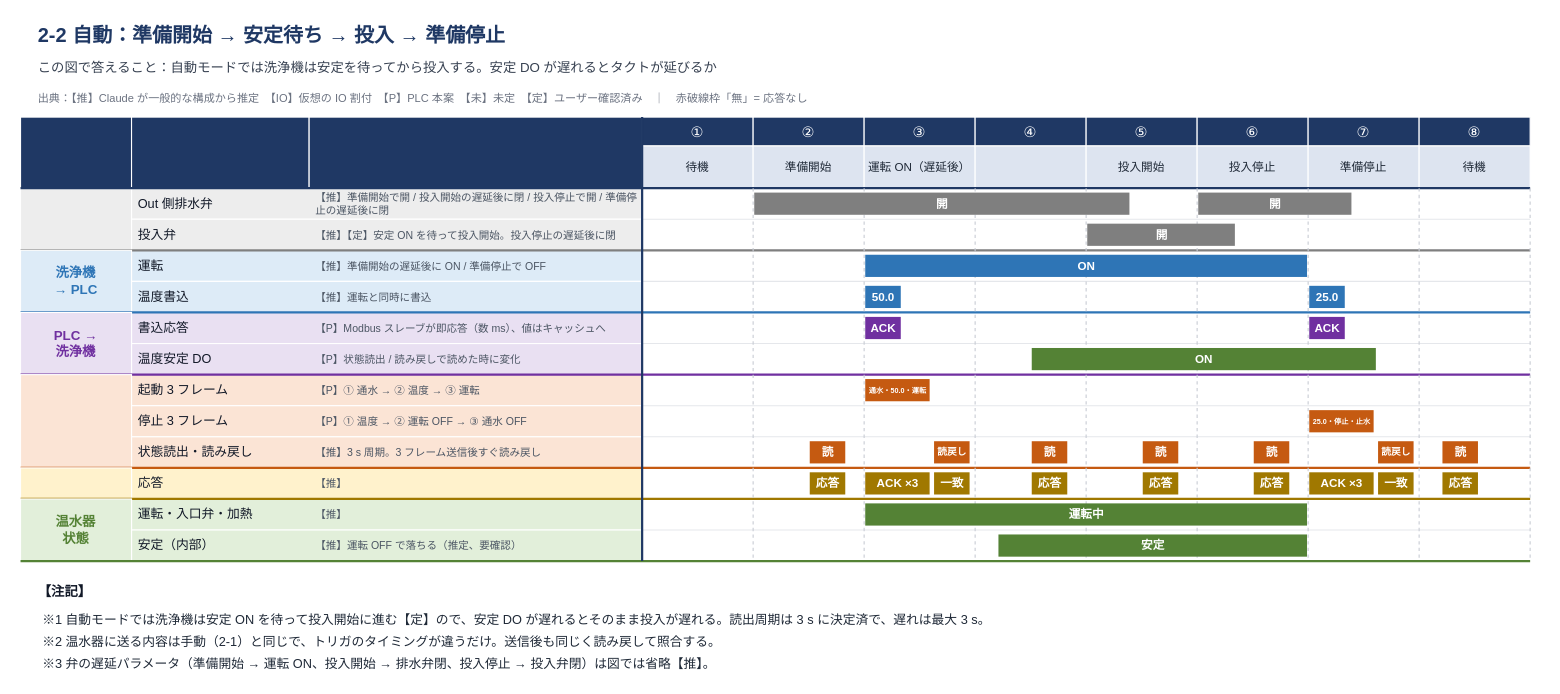
The diagram is 1560 pixels wide and 694 high, and some of its shapes have lost their labels. The shapes that lost their labels are listed below. From the top down, each one's box as (x1, y1, x2, y2) in pixels, then its label:
(19, 116, 132, 188): 区分
(130, 116, 309, 188): 信号
(308, 116, 642, 188): 備考
(974, 145, 1086, 188): 昇温 → 安定
(19, 187, 132, 250): 洗浄機内部 （参考）
(19, 374, 132, 468): PLC → 温水器
(19, 467, 132, 499): 温水器 → PLC
